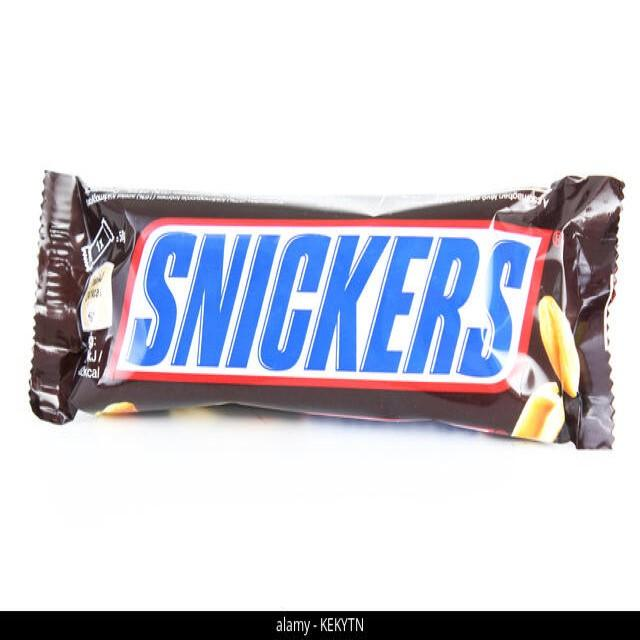snickers_chocolate: (37, 168, 608, 447)
